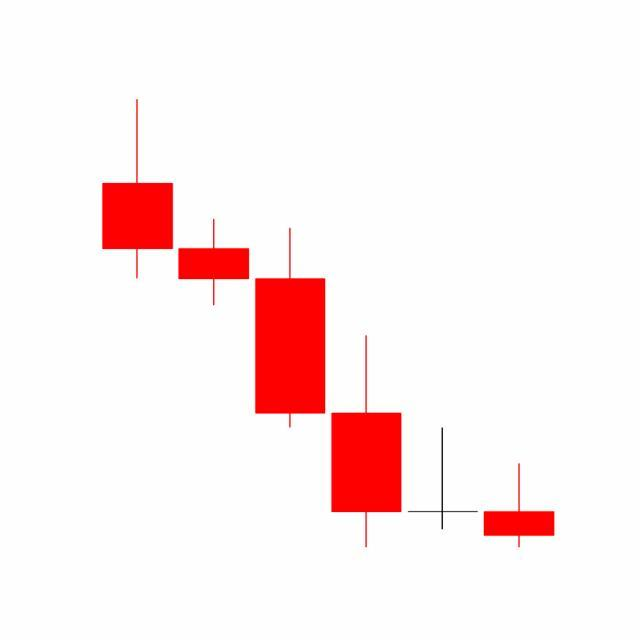Spinning Top: (404, 427, 482, 532)
